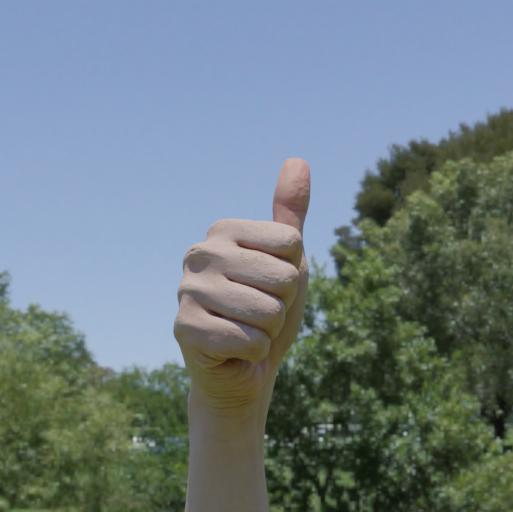thumbs-up: (170, 148, 319, 398)
